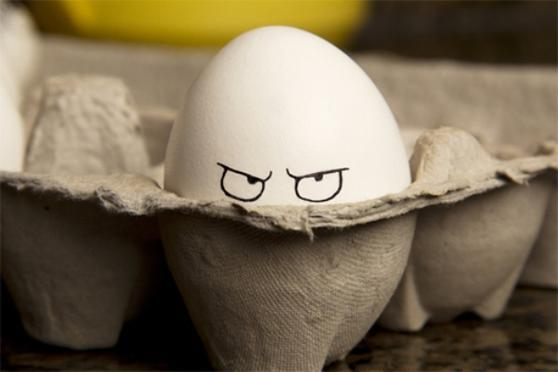egg: (171, 24, 412, 186)
